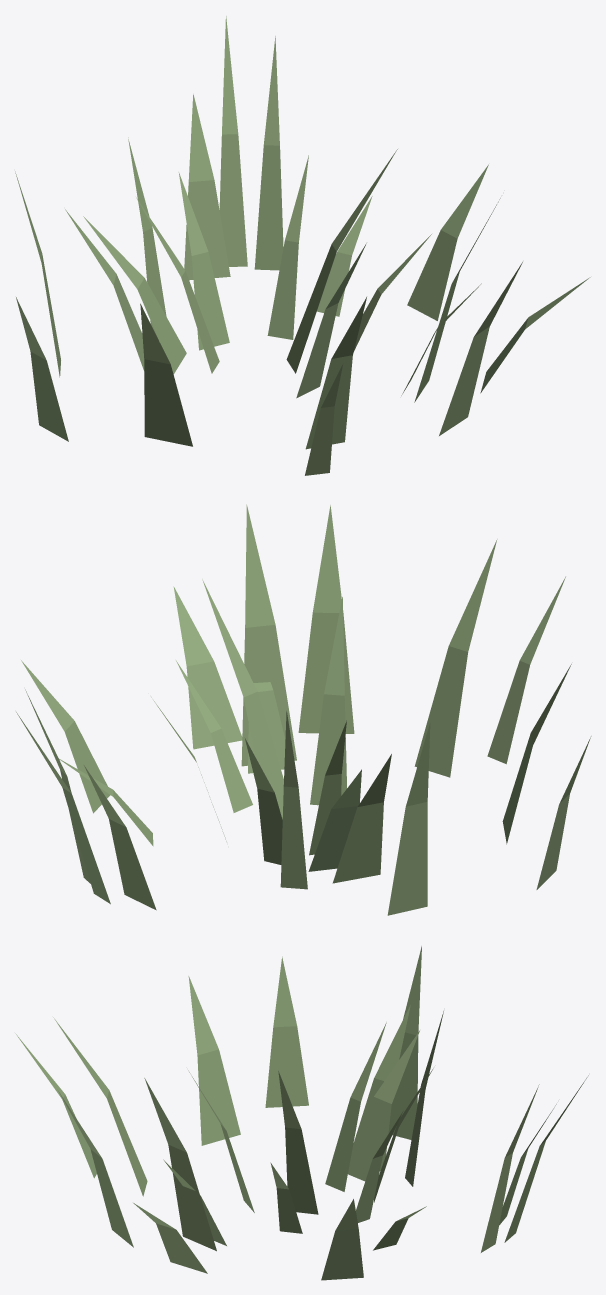
The model's file is SM_GrassTuft.fbx.
The picture shows the model from 3 angles, top to bottom: view 1: azimuth 30°, elevation 25°; view 2: azimuth 150°, elevation 25°; view 3: azimuth 270°, elevation 25°; orthographic projection. The views are drawn at different scales.
Parts seen in each view (by area): view 1: SM_GrassTuft; view 2: SM_GrassTuft; view 3: SM_GrassTuft.
Part boxes in pixels (left/top/right/bottom): SM_GrassTuft: left=15, top=16, right=590, bottom=475; SM_GrassTuft: left=16, top=504, right=591, bottom=915; SM_GrassTuft: left=15, top=946, right=588, bottom=1280.
Bounding box in the file's own units: 117 × 129 × 46.88.
